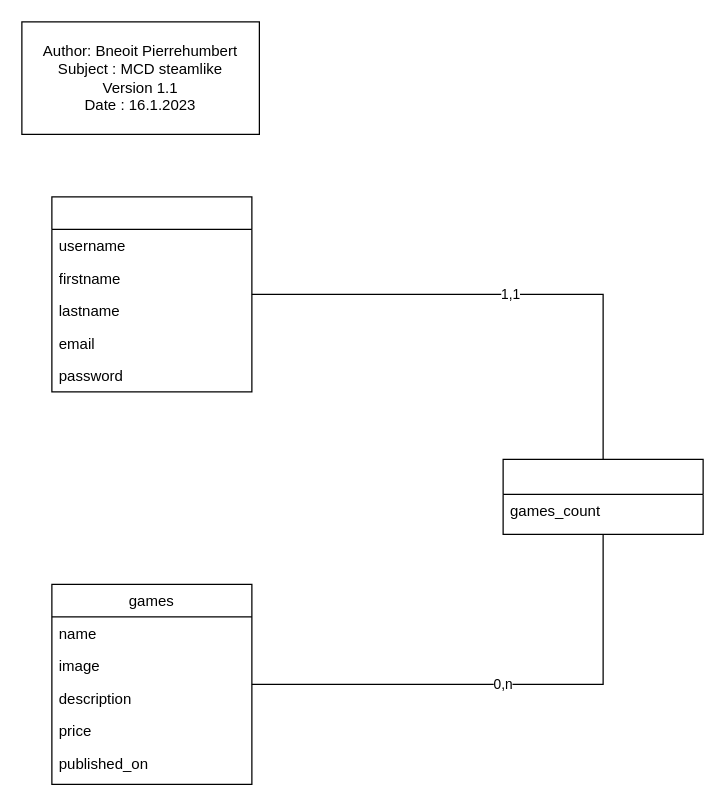
Image size: 725x810. Some labels were removed from this diagram. The shapes that lost their labels are listed below. From the top down, each one's box as (x1, y1, x2, y2) in pixels, then its label:
(51, 196, 252, 392): users
(502, 458, 703, 534): libraries
